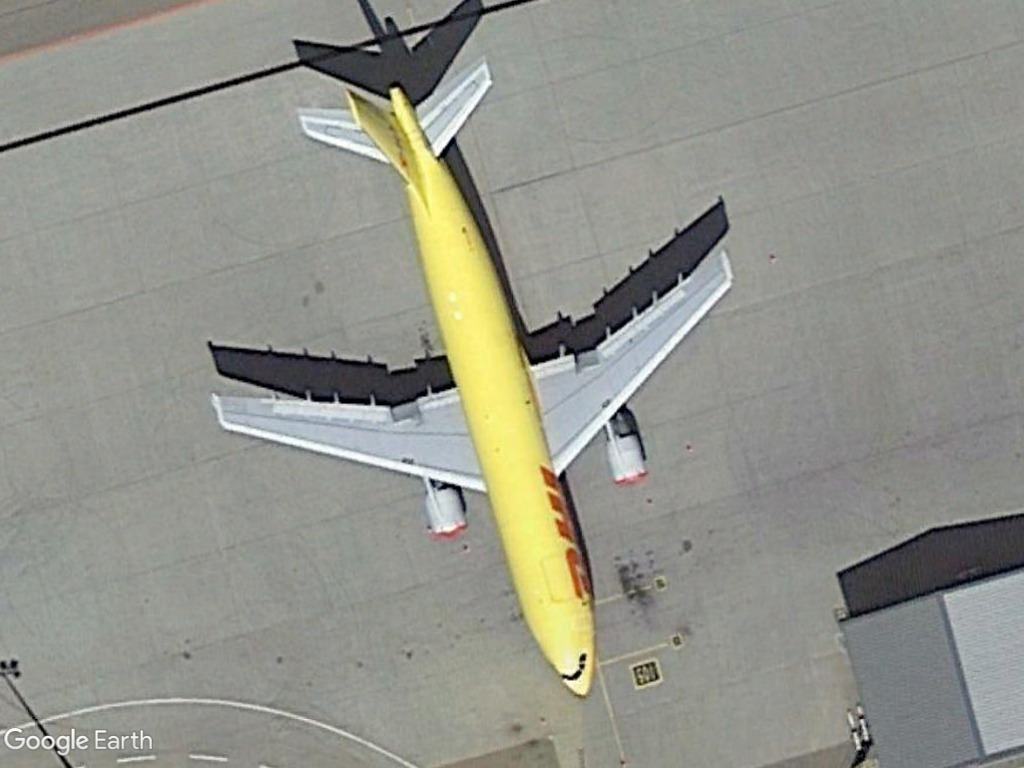airliner: (215, 54, 736, 708)
